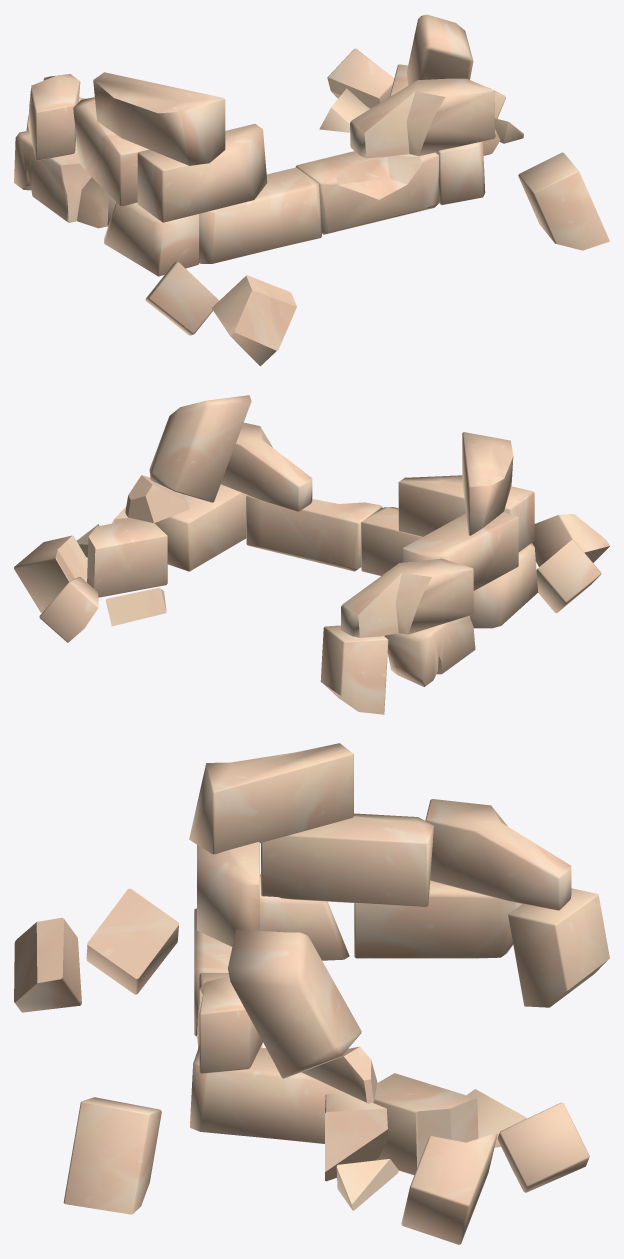
File: Ruine2.fbx
The picture shows the model from 3 angles, top to bottom: view 1: azimuth 30°, elevation 25°; view 2: azimuth 150°, elevation 25°; view 3: azimuth 270°, elevation 25°; orthographic projection. The views are drawn at different scales.
Visible parts, largest first — view 1: Box140; view 2: Box140; view 3: Box140.
Boxes of the visible parts, <box> form: Box140: <box>14,14,609,366</box>; Box140: <box>14,395,609,714</box>; Box140: <box>14,743,609,1244</box>.
Bounding box in the file's own units: 7.02 × 2.82 × 6.15.
